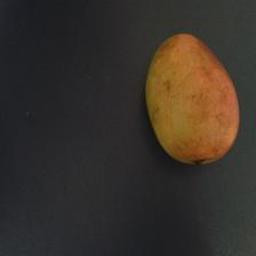Mango Semifresh: (141, 18, 242, 192)
